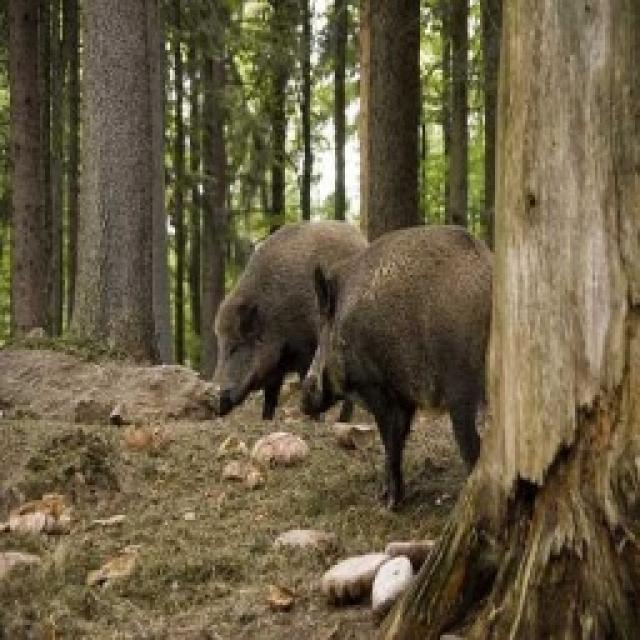pig: (295, 220, 495, 510), (206, 215, 366, 420)
